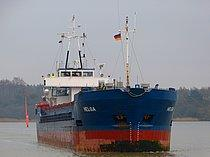Ship: (29, 10, 186, 157)
